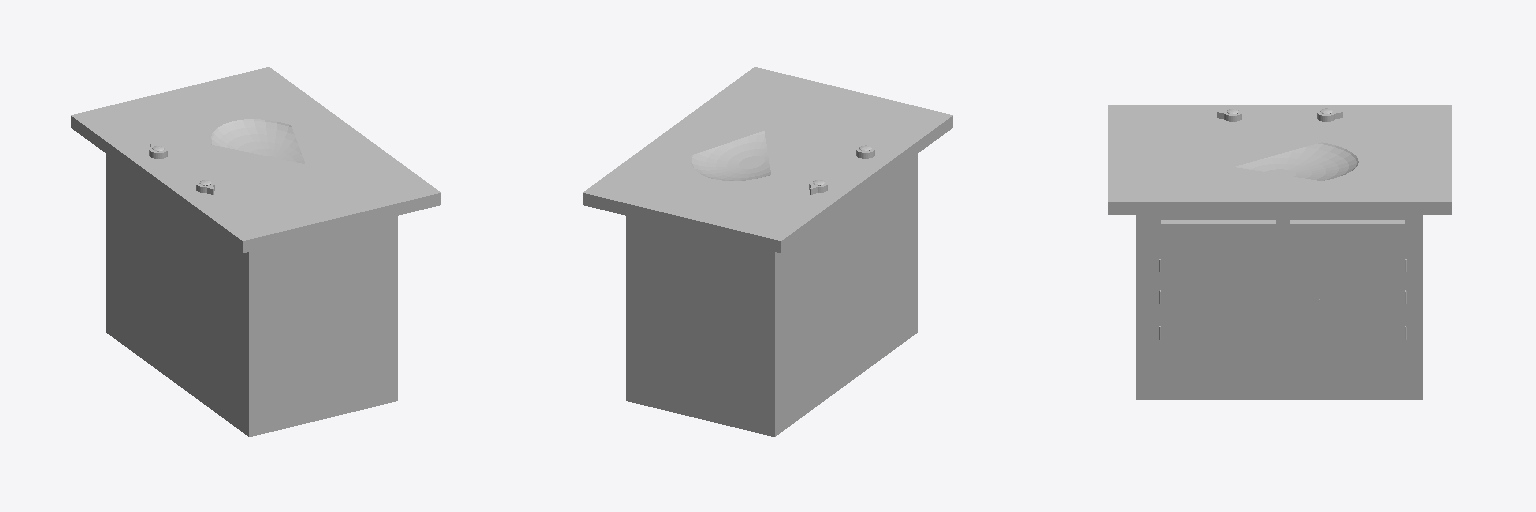
The model's file is bathroomsink.obj.
3 renders of one model, left to right at view 1: azimuth 30°, elevation 25°; view 2: azimuth 150°, elevation 25°; view 3: azimuth 270°, elevation 25°, orthographic.
Visible parts, largest first — view 1: Cube.014, Cube.012; view 2: Cube.014, Cube.012; view 3: Cube.012, Sink_door.002, Sink_door.001, Cube.014.
Boxes of the visible parts, x1=… form: Cube.014: x1=106, y1=154, x2=397, y2=436; Cube.012: x1=71, y1=67, x2=440, y2=252; Cube.014: x1=626, y1=154, x2=917, y2=436; Cube.012: x1=583, y1=67, x2=952, y2=252; Cube.012: x1=1108, y1=105, x2=1451, y2=214; Sink_door.002: x1=1161, y1=220, x2=1275, y2=378; Sink_door.001: x1=1290, y1=220, x2=1404, y2=378; Cube.014: x1=1136, y1=169, x2=1422, y2=399.
Size of the model in its own units: 0.8534 by 0.9003 by 1.28.